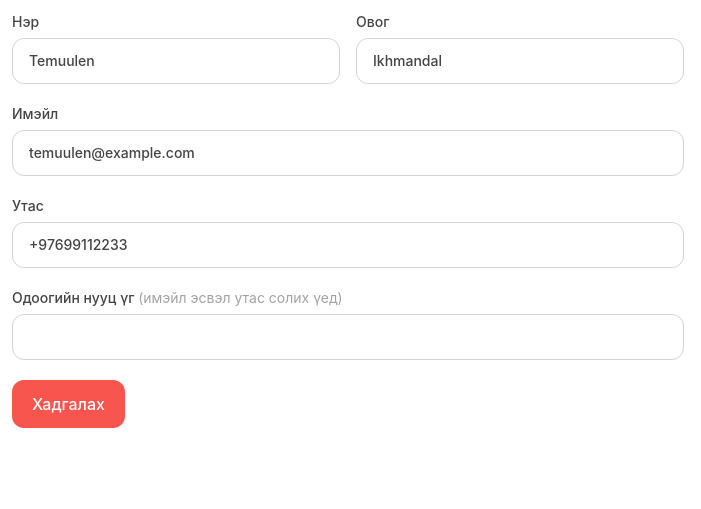
Test: account forms › updates profile data and refreshes auth state
Replace the text in the field labelled "Нэр" with "Updated" at (176, 61), box [12,38,340,84]
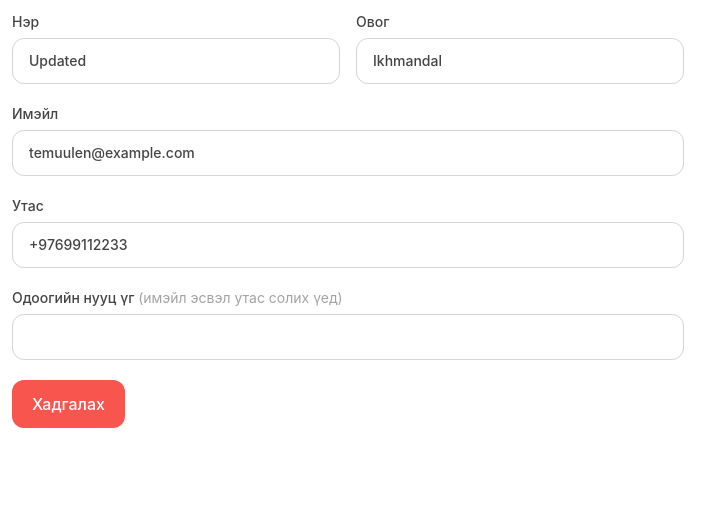
Click the button "Хадгалах" at (68, 404), box [12,380,125,428]
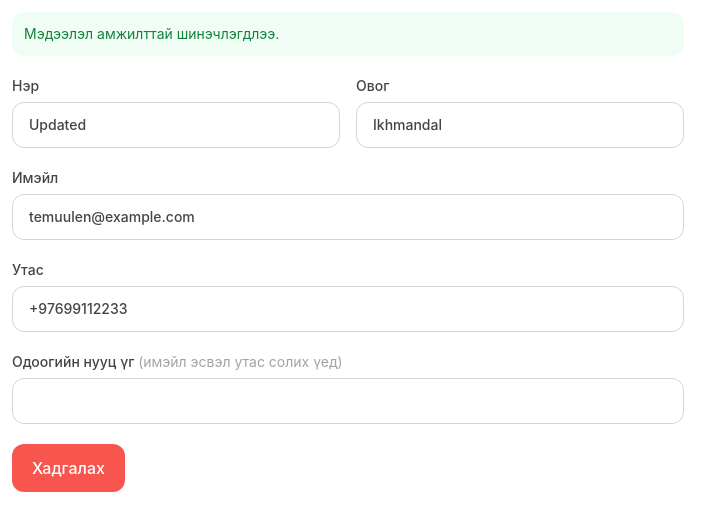
Check: the text "Мэдээлэл амжилттай шинэчлэгдлээ." is shown, box [12,12,684,56]
